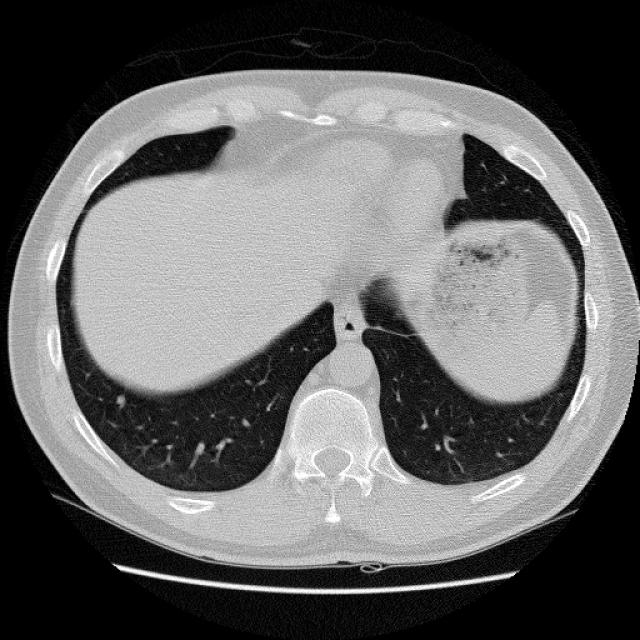nodule: (106, 386, 132, 412)
